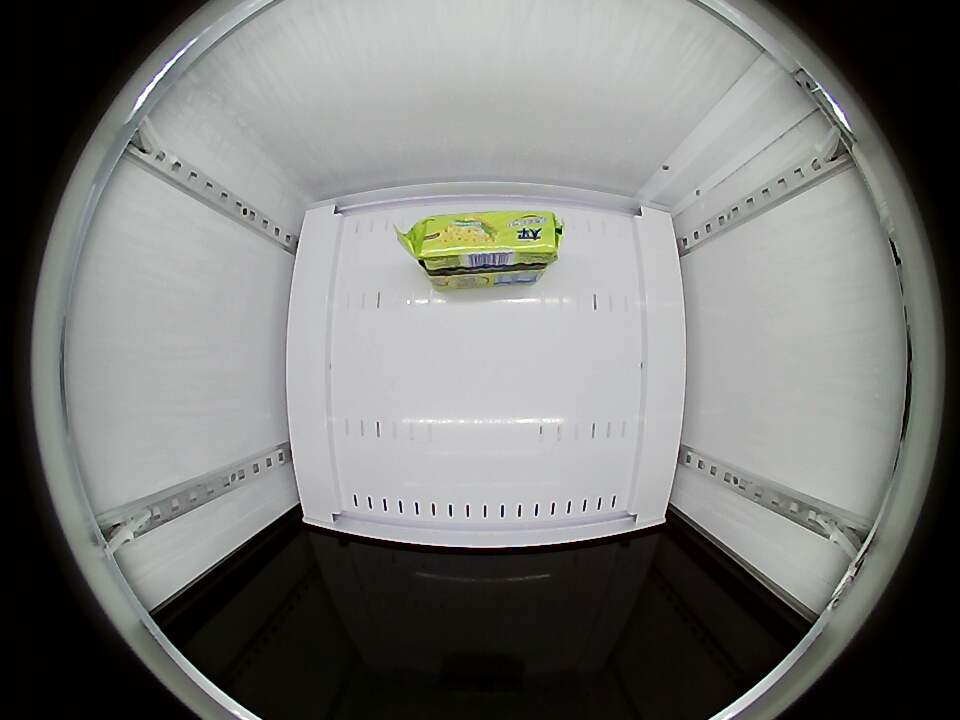taipingshuda: (406, 210, 561, 276)
